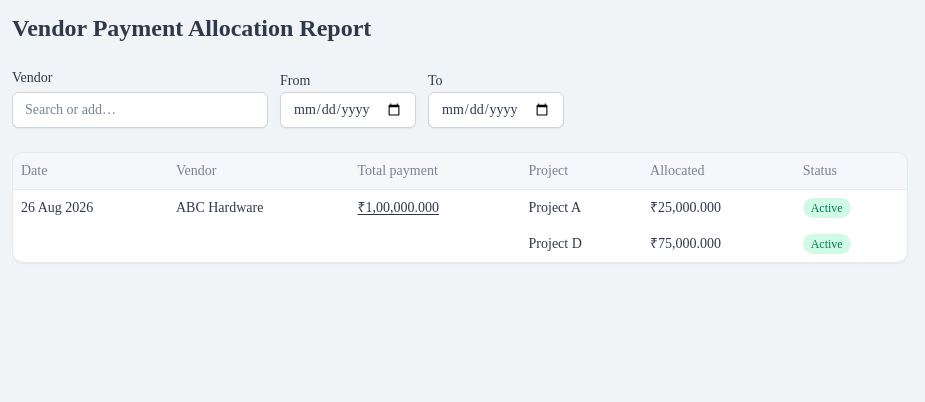
VendorPaymentAllocationReportPage › AllocationReport_ShowsRowsAndDrillsIntoOneSettlement
The image size is (925, 402).
Expected: the cell "Project A" is shown, 521,190 -> 642,226
Expected: the cell "Project D" is shown, 521,226 -> 642,262
# Clicking the payment total drills into the full allocation.
Step 1. Click the button "₹1,00,000.000" → (398, 208), box 358,198 -> 439,218
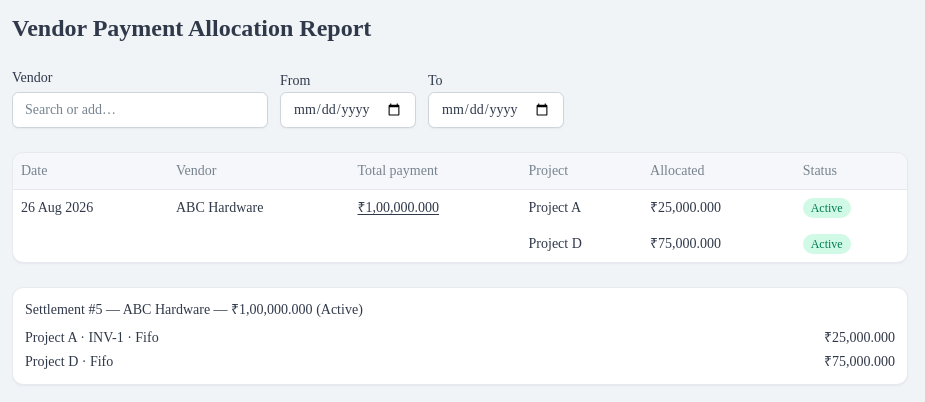
Result: the element with test id "allocation-detail" shows "Settlement #5" at 12,287 -> 908,385
Result: the element with test id "allocation-detail" shows "INV-1" at 77,330 -> 124,345
Result: the element with test id "allocation-detail" shows "₹75,000.000" at 824,354 -> 895,369
